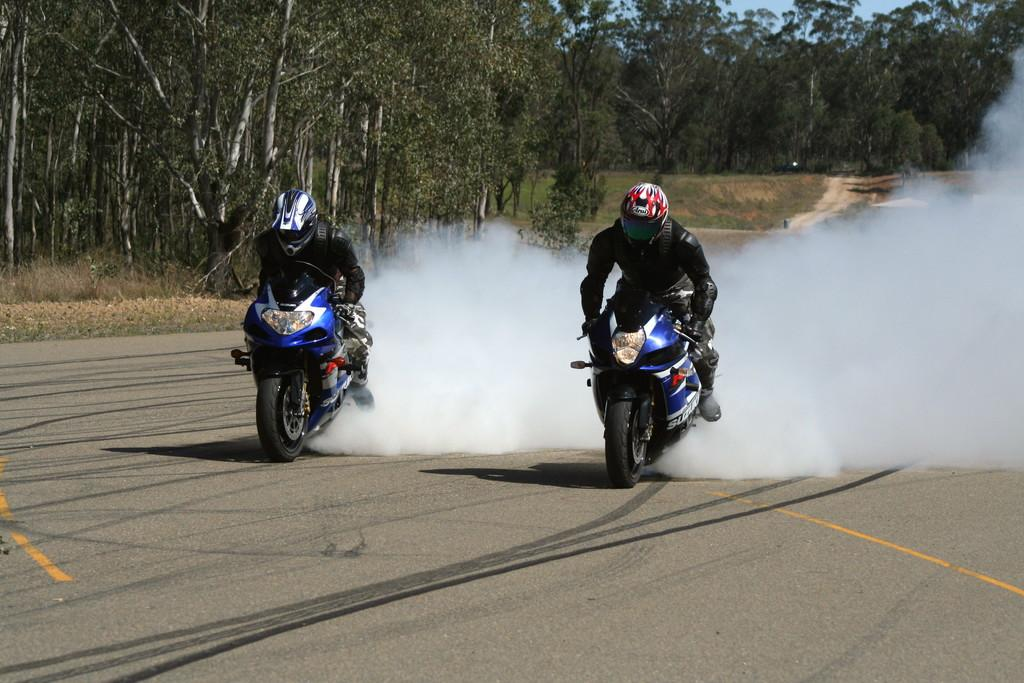helmet: (620, 182, 669, 249), (271, 188, 318, 257)
